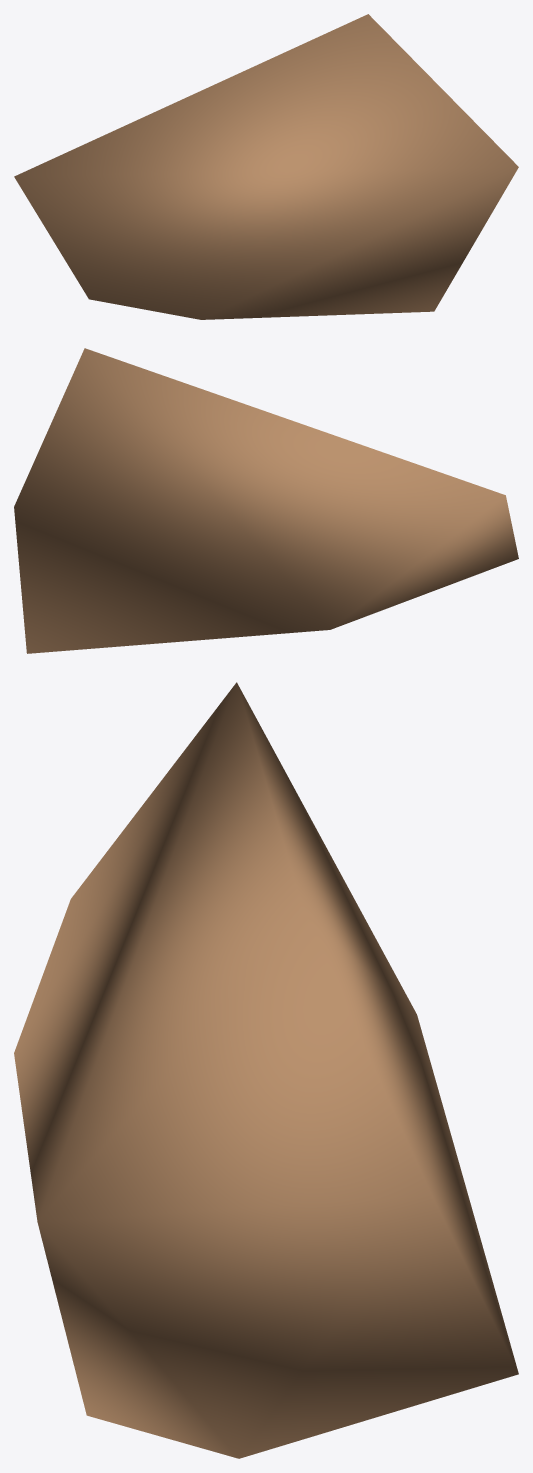
The model's file is MSH_Rock_Single_36.FBX.
3 renders of one model, top to bottom at view 1: azimuth 30°, elevation 25°; view 2: azimuth 150°, elevation 25°; view 3: azimuth 270°, elevation 25°, orthographic. The views are drawn at different scales.
Visible parts, largest first — view 1: MESH_ROCK_12; view 2: MESH_ROCK_12; view 3: MESH_ROCK_12.
Part boxes in pixels (bbox=[...]): MESH_ROCK_12: bbox=[14, 14, 518, 319]; MESH_ROCK_12: bbox=[14, 348, 518, 653]; MESH_ROCK_12: bbox=[14, 682, 518, 1458].
Size of the model in its own units: 13.49 by 7.52 by 6.84.
